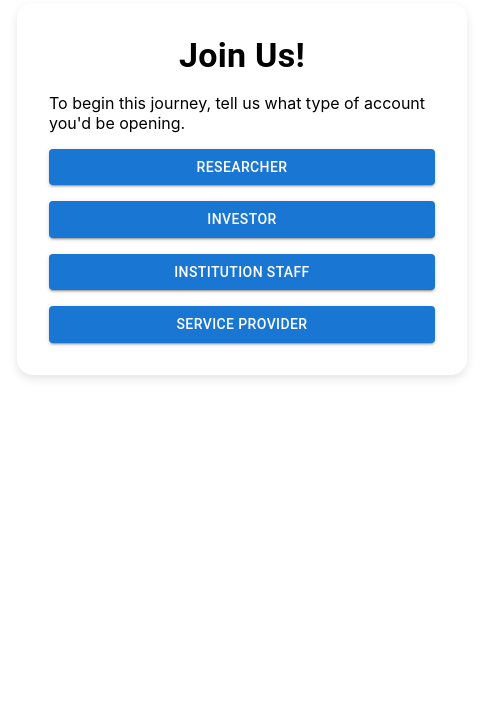
Test: SignupForm › renders the signup form after selecting a user type
This screenshot has width=485, height=702.
Note: Click on the Researcher button to select it
Click the button "Researcher" at (242, 167), box [49,149,435,186]
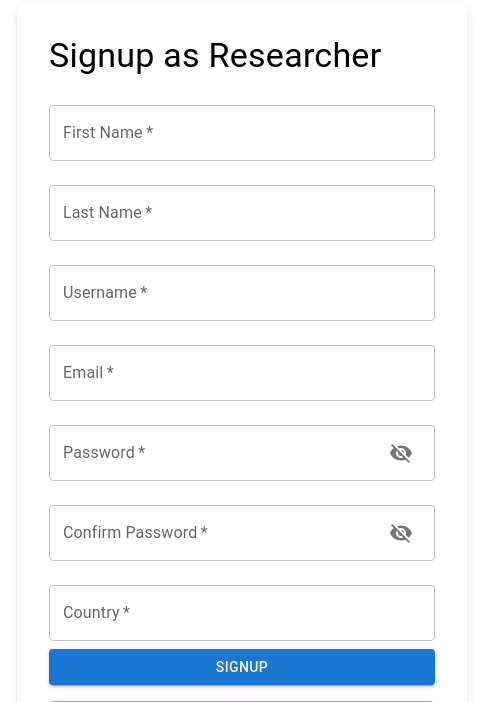
expect the field labelled "First Name *" is shown: met, box [49,105,435,161]
expect the field labelled "Last Name *" is shown: met, box [49,185,435,241]
expect the field labelled "Username *" is shown: met, box [49,265,435,321]
